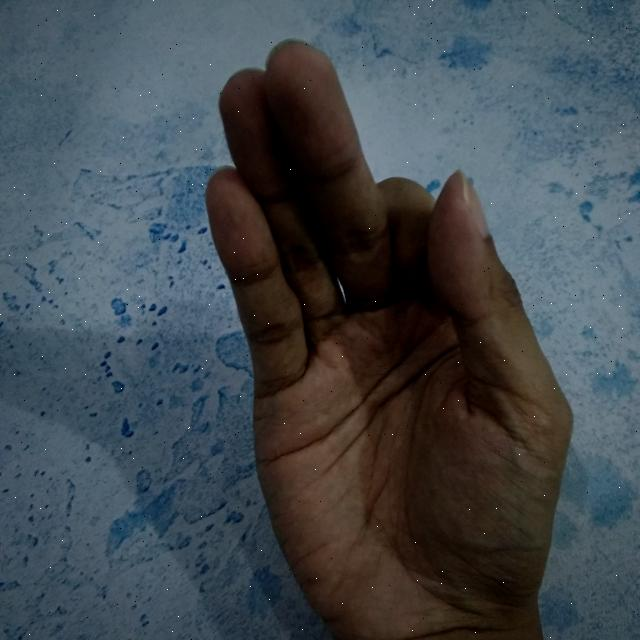F: (207, 33, 577, 640)
